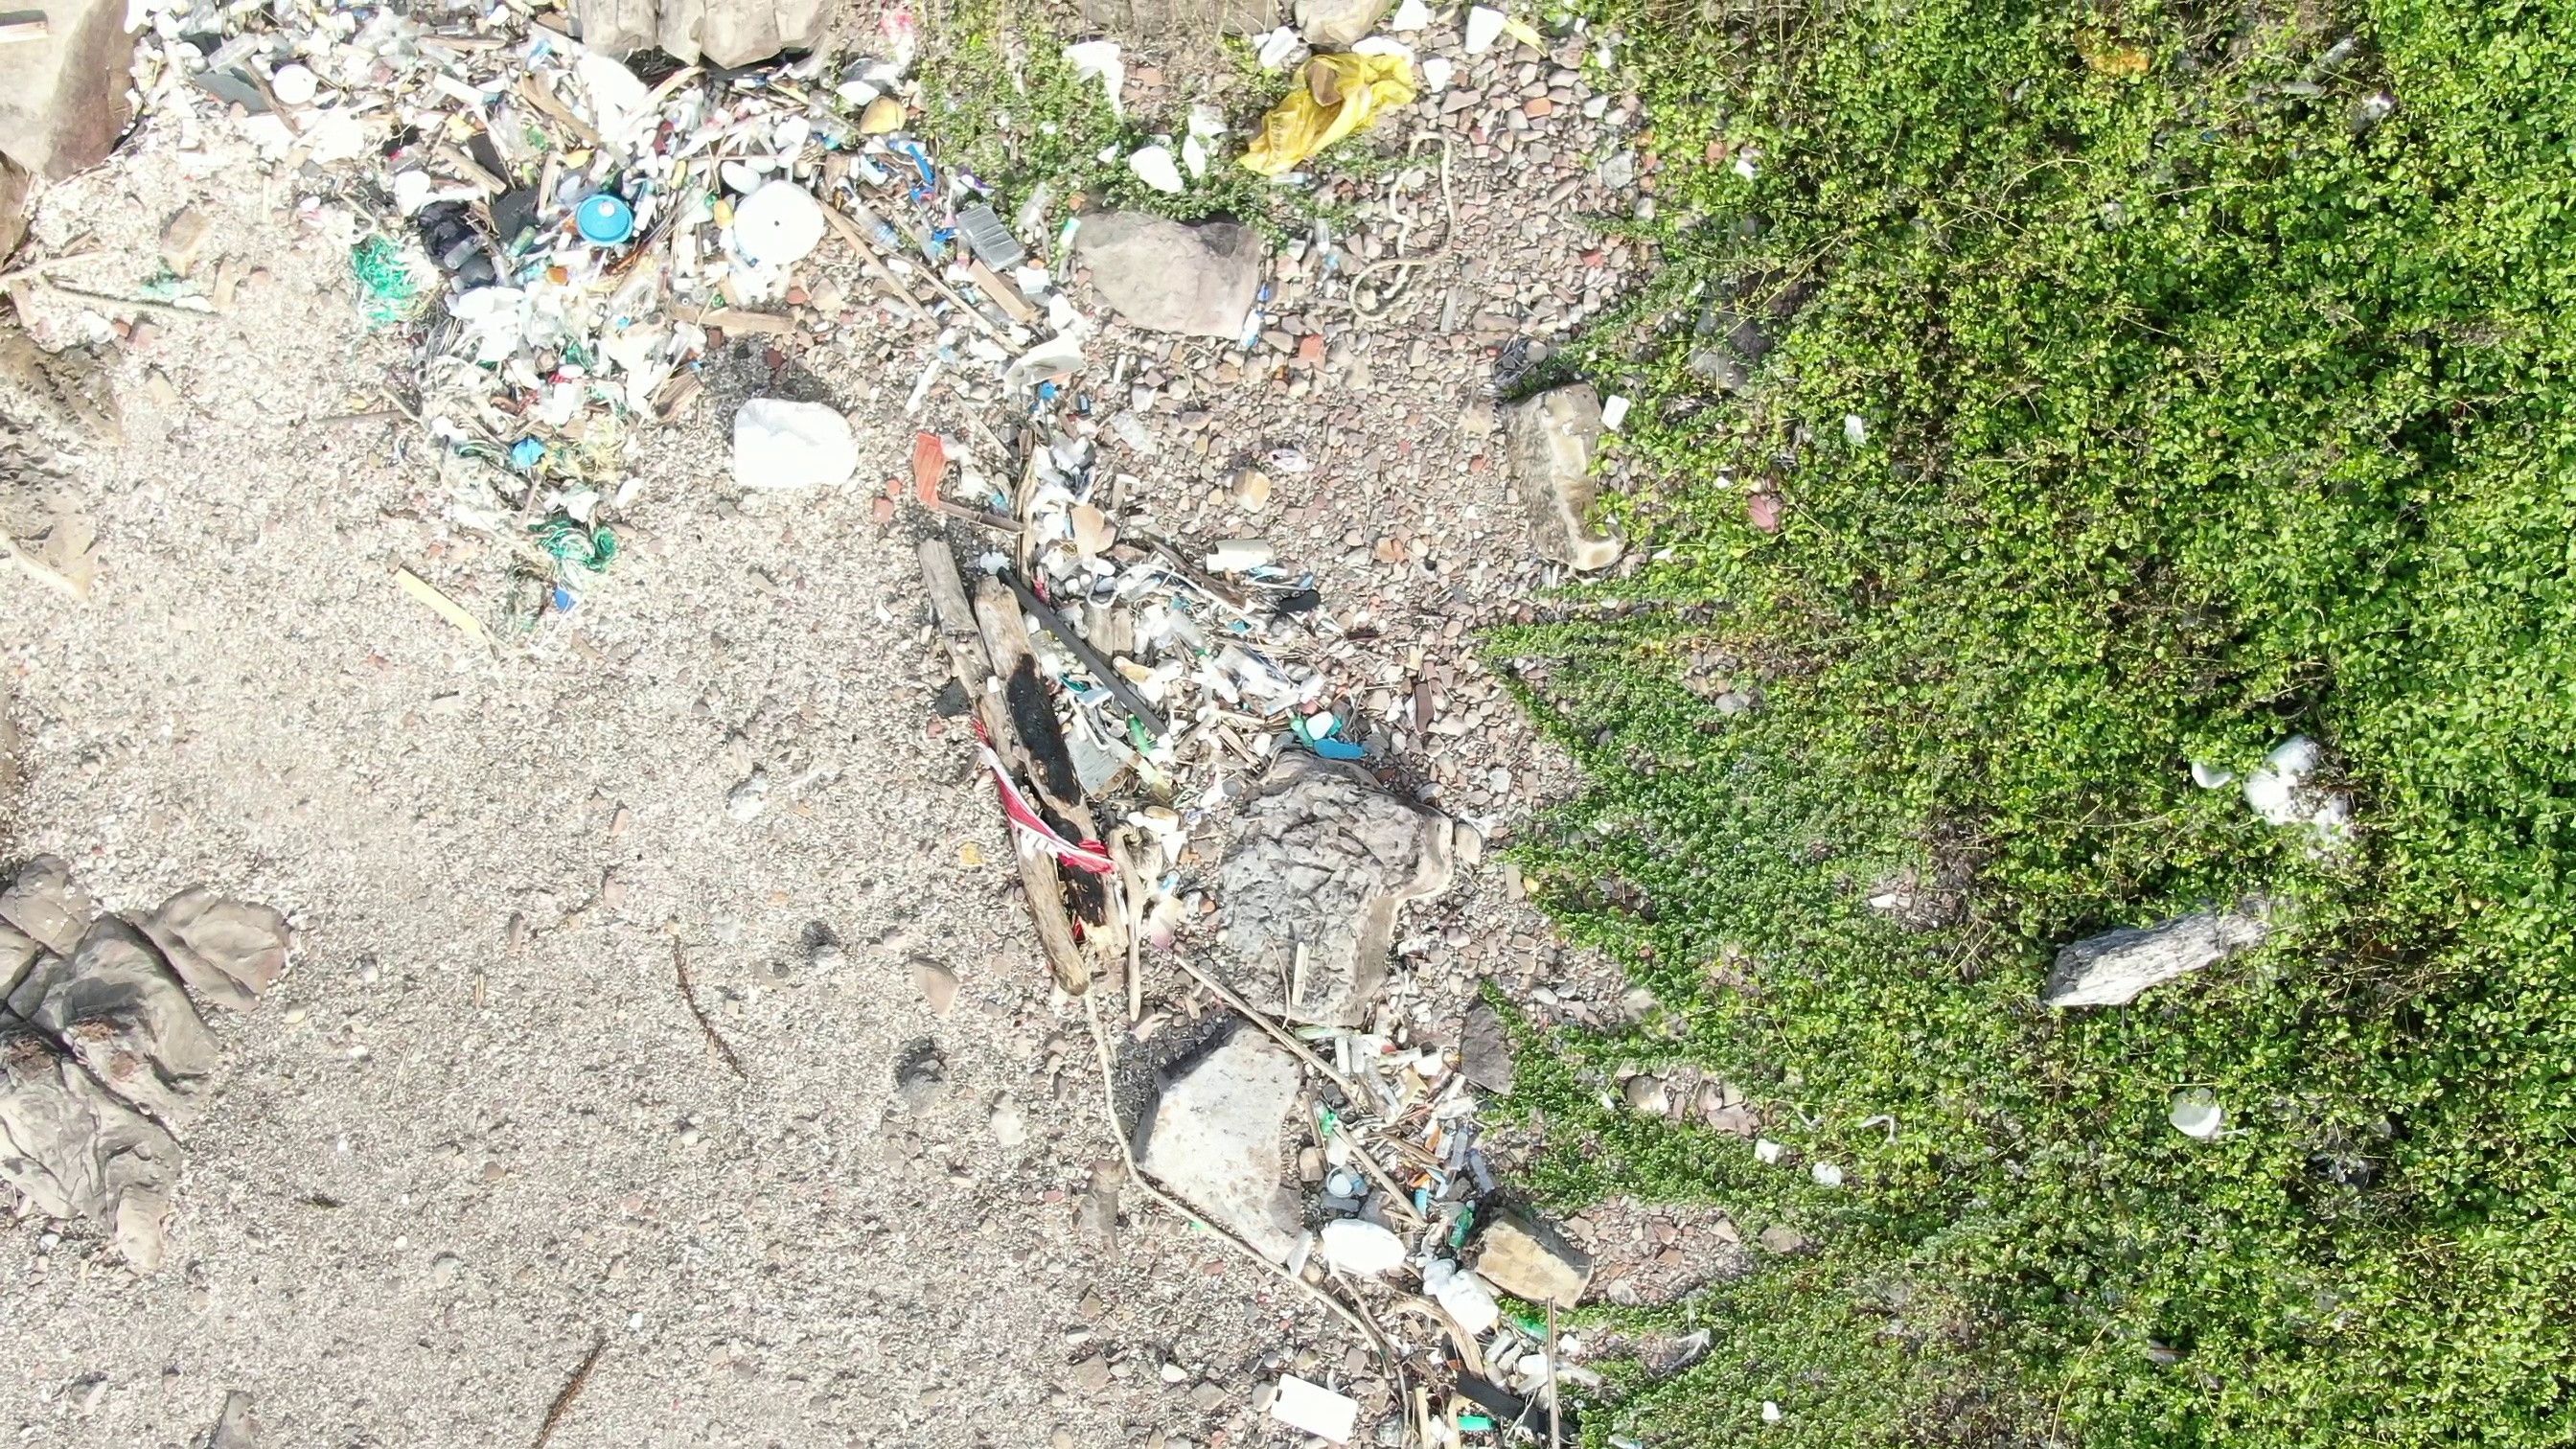garbage: (140, 2, 952, 639), (952, 186, 1371, 984), (1063, 985, 1601, 1449), (1191, 2, 1555, 327), (1031, 2, 1214, 223), (1585, 370, 1660, 439)
